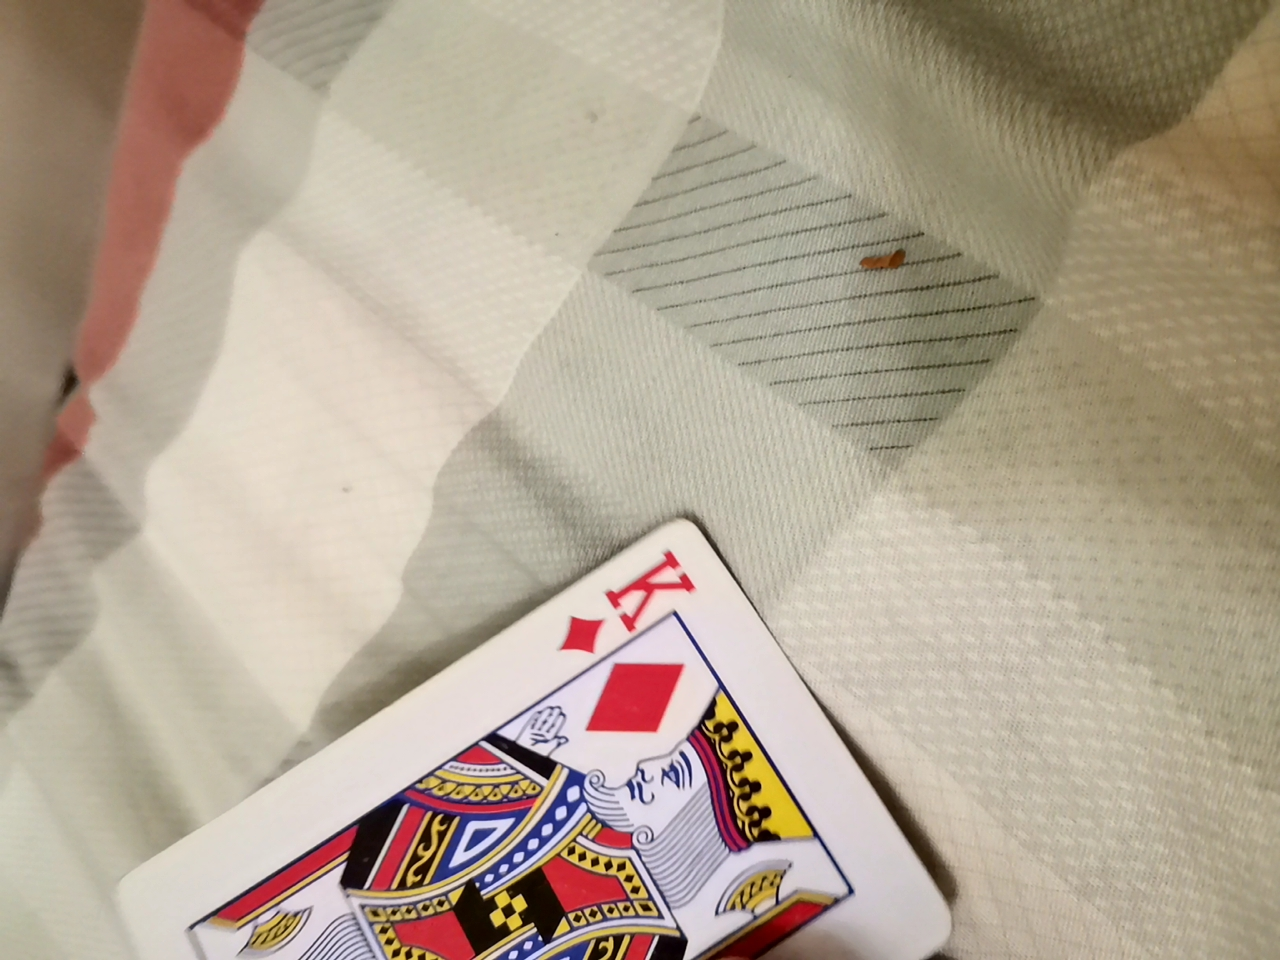fk k: (94, 535, 986, 958)
